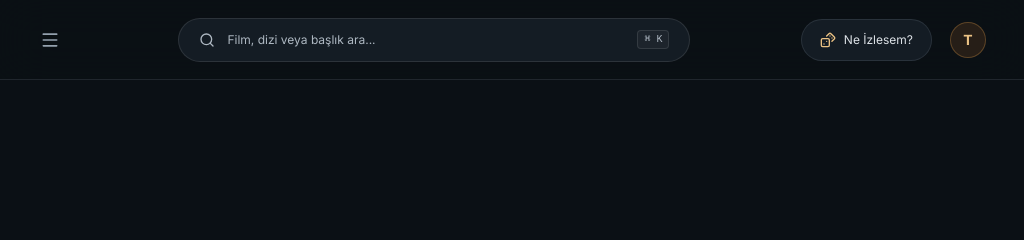
Test: Navbar user menu › exposes its items as menu items
The width and height of the screenshot is (1024, 240).
Step 1. Click the button named "Kullanıcı Menüsü" → x=968, y=40, box [944,16,992,64]
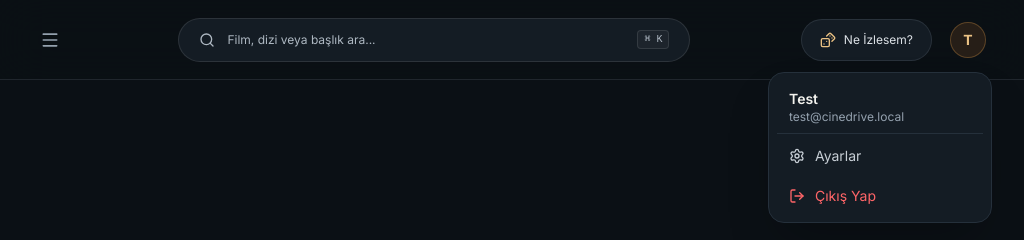
Now the menu item "Ayarlar" is shown, box [777,138,983,174]
Now the menu item "Çıkış Yap" is shown, box [777,178,983,214]
